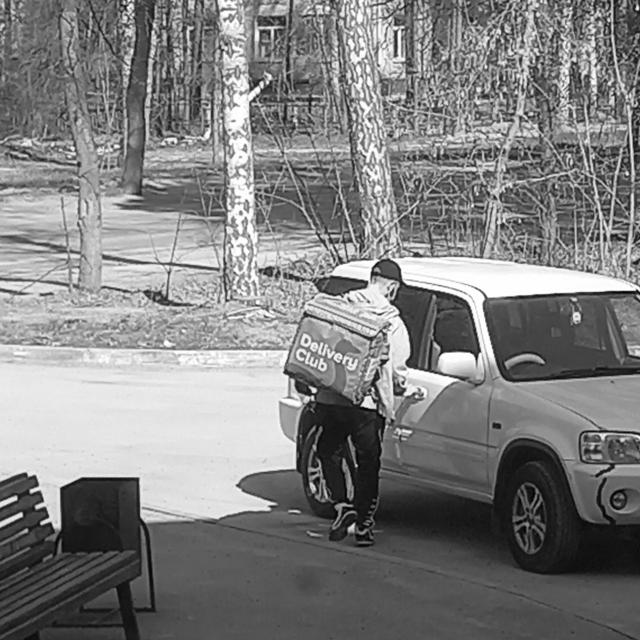Invader: (294, 257, 427, 547)
